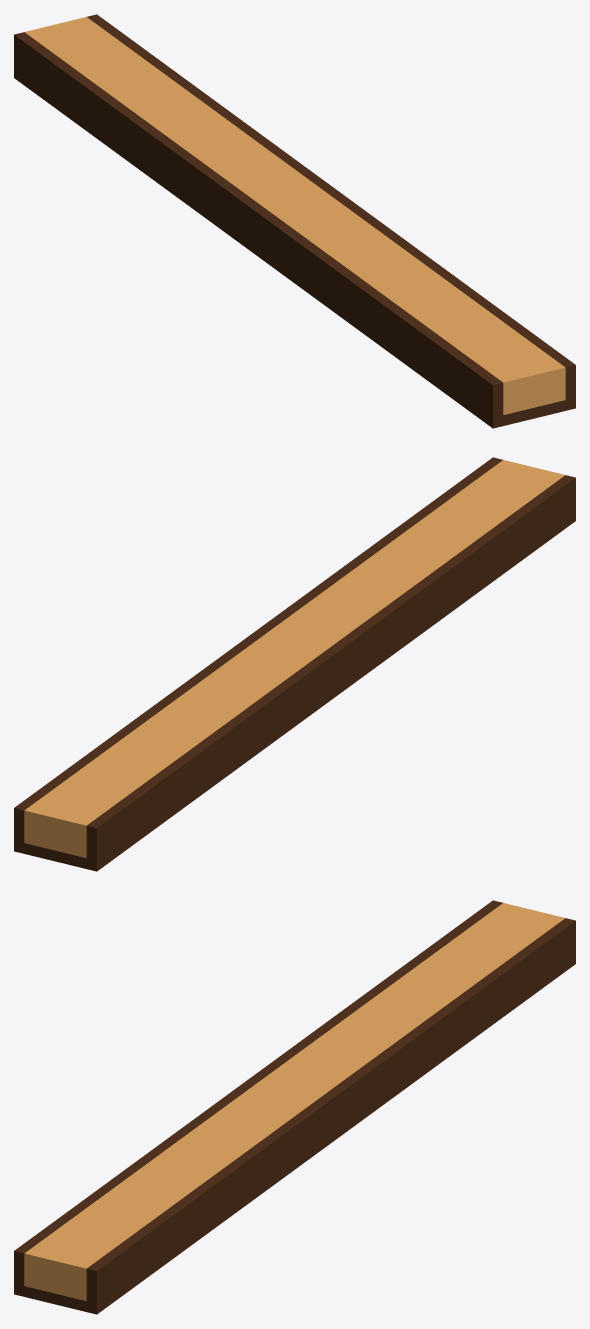
Rendered from LogSplitObj.fbx.
3 views of the same model, one above another, from view 1: azimuth 30°, elevation 25°; view 2: azimuth 150°, elevation 25°; view 3: azimuth 330°, elevation 25° (orthographic).
Parts seen in each view (by area): view 1: LogSplit; view 2: LogSplit; view 3: LogSplit.
Boxes of the visible parts, left/top/right/bottom form: LogSplit: left=14, top=14, right=575, bottom=428; LogSplit: left=14, top=457, right=575, bottom=871; LogSplit: left=14, top=900, right=575, bottom=1314.
Bounding box in the file's own units: 100 × 50 × 1000.
